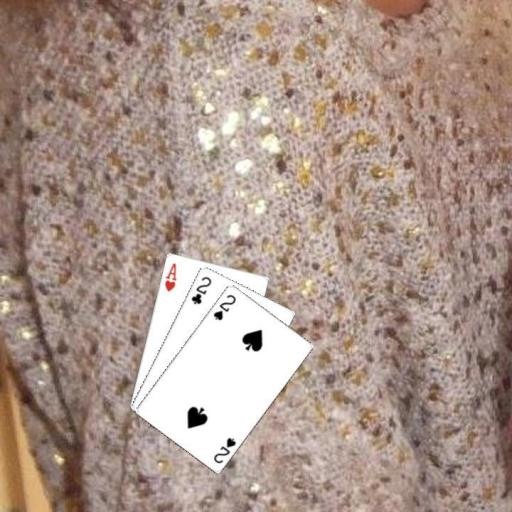2C: (188, 273, 213, 306)
2S: (210, 291, 237, 321), (211, 434, 238, 464)
AH: (161, 260, 178, 293)
